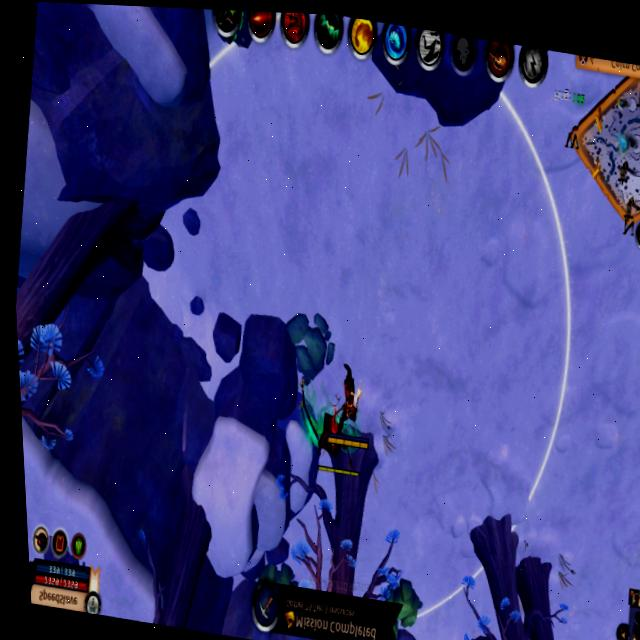red: (318, 353, 378, 455)
tree: (376, 566, 434, 638), (255, 558, 300, 593)
